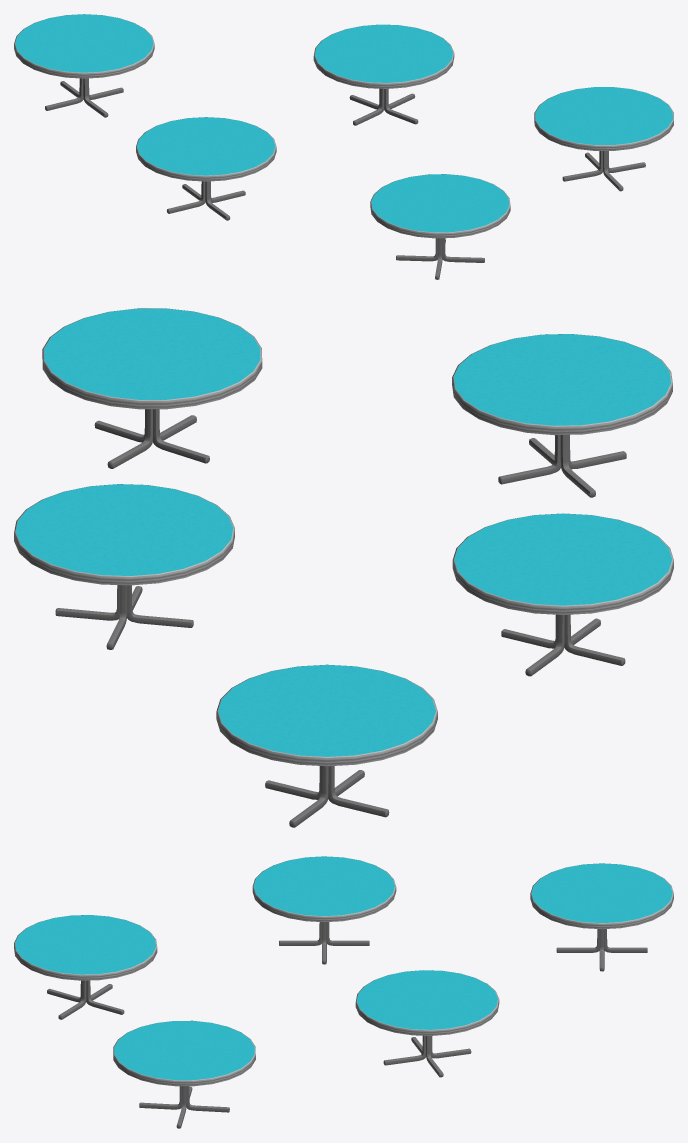
Rendered from RecCenterCafeTables.fbx.
3 views of the same model, one above another, from view 1: azimuth 30°, elevation 25°; view 2: azimuth 150°, elevation 25°; view 3: azimuth 270°, elevation 25° (orthographic). The views are drawn at different scales.
Parts seen in each view (by area): view 1: RecCenter_Cafe_Table_LOD0_2, RecCenter_Cafe_Table_LOD0_4, RecCenter_Cafe_Table_LOD0, RecCenter_Cafe_Table_LOD0_3, RecCenter_Cafe_Table_LOD0_1; view 2: RecCenter_Cafe_Table_LOD0_3, RecCenter_Cafe_Table_LOD0, RecCenter_Cafe_Table_LOD0_4, RecCenter_Cafe_Table_LOD0_1, RecCenter_Cafe_Table_LOD0_2; view 3: RecCenter_Cafe_Table_LOD0_1, RecCenter_Cafe_Table_LOD0_2, RecCenter_Cafe_Table_LOD0_3, RecCenter_Cafe_Table_LOD0_4, RecCenter_Cafe_Table_LOD0.
Boxes of the visible parts, x1=… form: RecCenter_Cafe_Table_LOD0_2: x1=313, y1=24, x2=454, y2=125; RecCenter_Cafe_Table_LOD0_4: x1=14, y1=14, x2=154, y2=117; RecCenter_Cafe_Table_LOD0: x1=136, y1=117, x2=276, y2=220; RecCenter_Cafe_Table_LOD0_3: x1=534, y1=87, x2=673, y2=191; RecCenter_Cafe_Table_LOD0_1: x1=370, y1=174, x2=510, y2=279; RecCenter_Cafe_Table_LOD0_3: x1=42, y1=308, x2=262, y2=468; RecCenter_Cafe_Table_LOD0: x1=452, y1=513, x2=673, y2=676; RecCenter_Cafe_Table_LOD0_4: x1=216, y1=664, x2=437, y2=827; RecCenter_Cafe_Table_LOD0_1: x1=452, y1=334, x2=672, y2=497; RecCenter_Cafe_Table_LOD0_2: x1=14, y1=484, x2=234, y2=649; RecCenter_Cafe_Table_LOD0_1: x1=14, y1=915, x2=157, y2=1019; RecCenter_Cafe_Table_LOD0_2: x1=355, y1=970, x2=499, y2=1077; RecCenter_Cafe_Table_LOD0_3: x1=113, y1=1020, x2=255, y2=1128; RecCenter_Cafe_Table_LOD0_4: x1=530, y1=863, x2=673, y2=971; RecCenter_Cafe_Table_LOD0: x1=252, y1=856, x2=396, y2=964.
Size of the model in its own units: 645 by 79.34 by 801.
